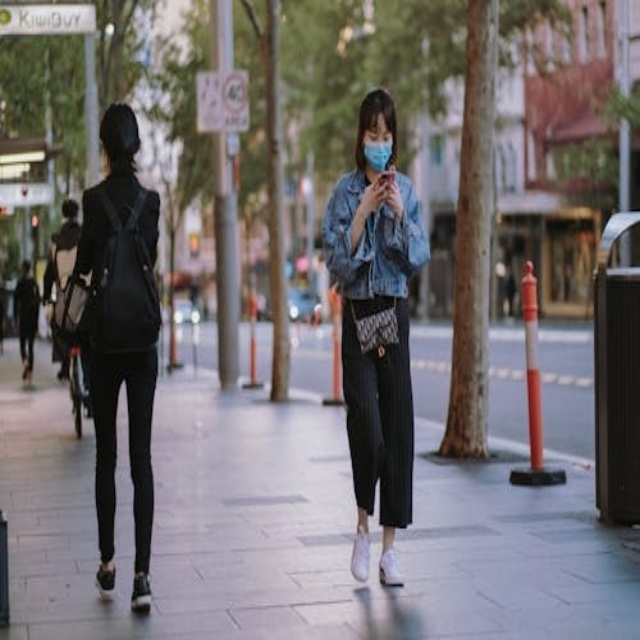Mascara: (363, 139, 393, 171)
Sin_gafas: (364, 130, 393, 145)
